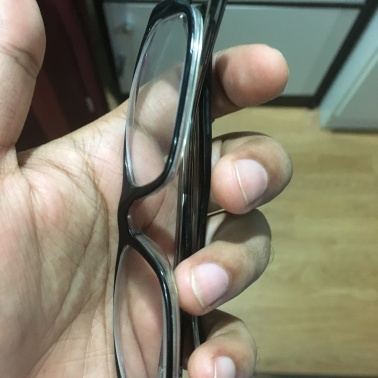glasses: (113, 4, 204, 378)
